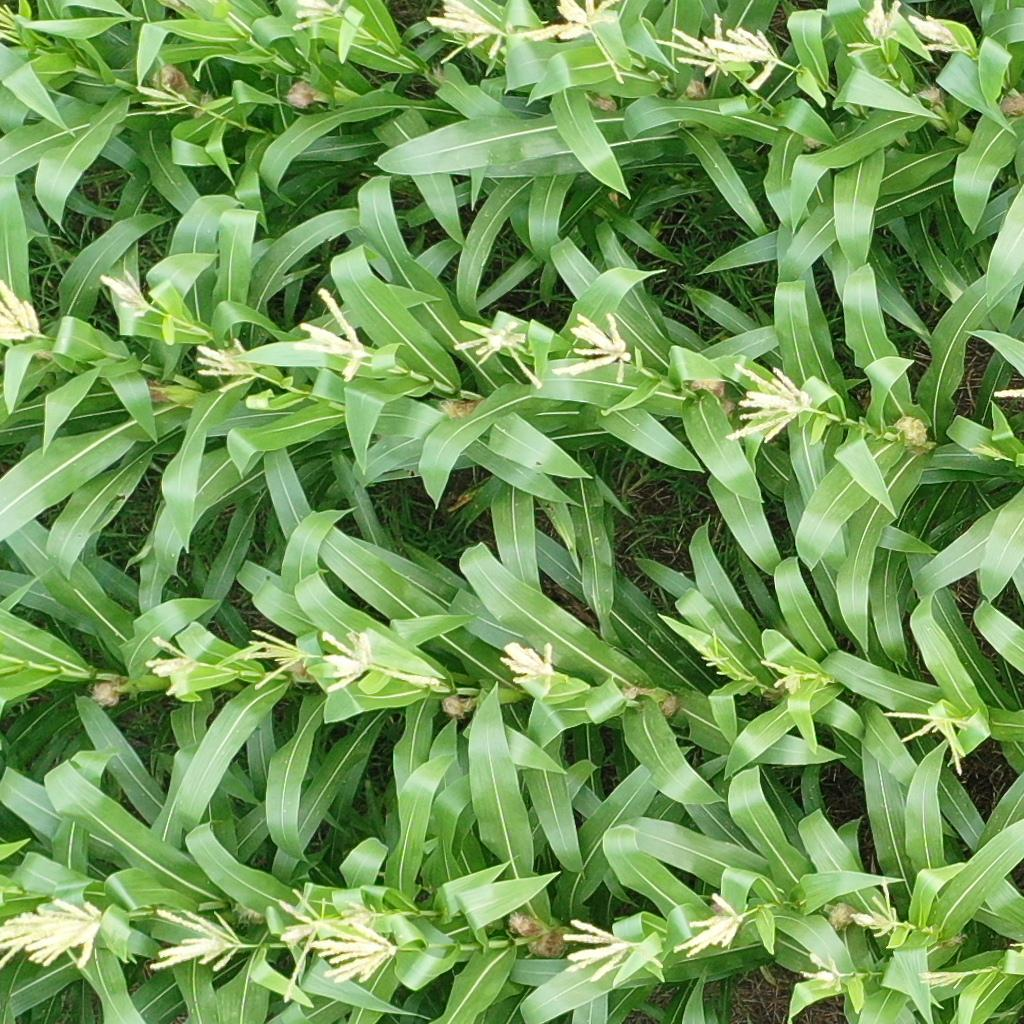Tassel: (318, 627, 440, 700), (275, 895, 354, 1007), (529, 1, 634, 84), (1, 898, 107, 976), (290, 289, 373, 384), (725, 361, 815, 445), (546, 309, 637, 384), (451, 319, 543, 391), (884, 705, 975, 777), (148, 907, 244, 974), (424, 1, 523, 62), (308, 923, 402, 984), (703, 27, 787, 94), (560, 915, 637, 988), (671, 892, 748, 965), (651, 12, 730, 79), (240, 629, 312, 694), (497, 638, 559, 704), (145, 636, 206, 698), (194, 337, 259, 394), (848, 877, 905, 942), (844, 1, 902, 57), (1, 280, 52, 342), (99, 269, 156, 316), (761, 657, 827, 696), (908, 13, 969, 55), (688, 629, 733, 678), (133, 79, 193, 115), (799, 951, 848, 995), (290, 1, 355, 29), (337, 898, 383, 931), (918, 969, 976, 989), (1, 5, 25, 45), (970, 443, 1009, 465)
